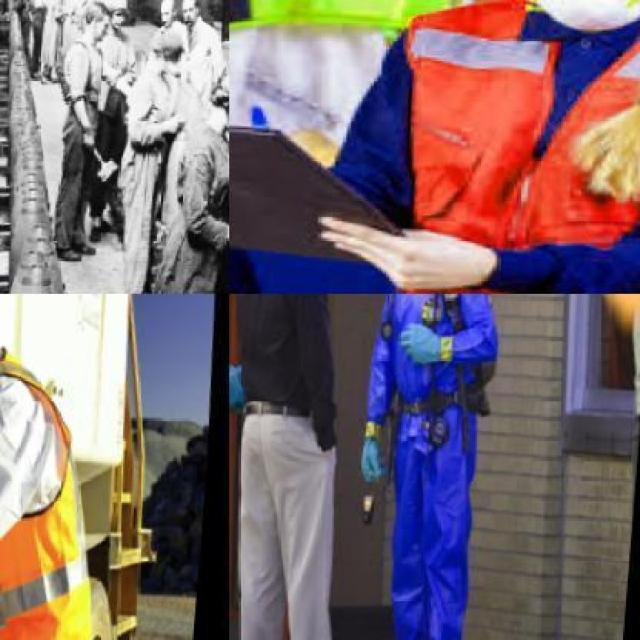Vest: (378, 0, 638, 292), (0, 344, 126, 638), (358, 294, 517, 428)
